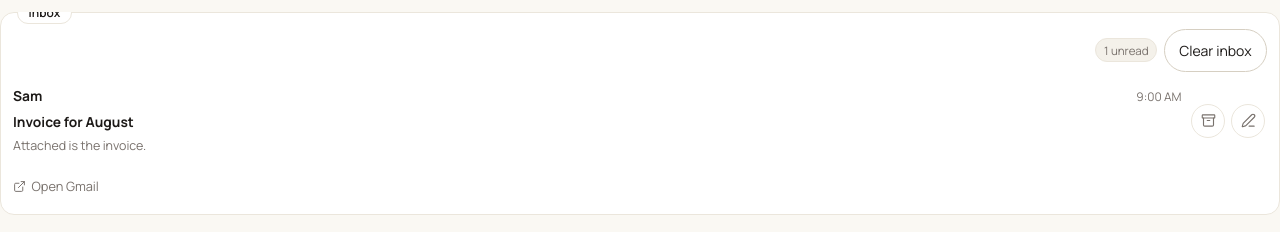
GmailSummaryCard archive › removes the row and confirms when Gmail archives the thread
Expected: the text "Invoice for August" is shown, [13,112,134,131]
Click the button named "Archive". click: {"x": 1208, "y": 121}
box: [1191,104,1225,138]
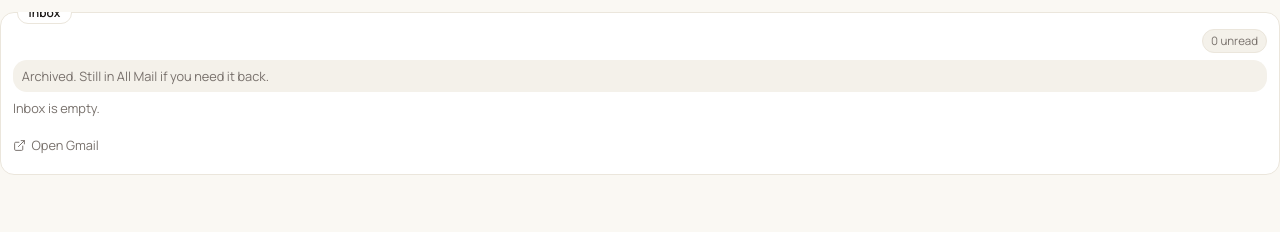
Expected: the text "Archived. Still in All Mail if you need it back." is shown, [13,60,1267,92]
Expected: the text "Invoice for August" is gone
